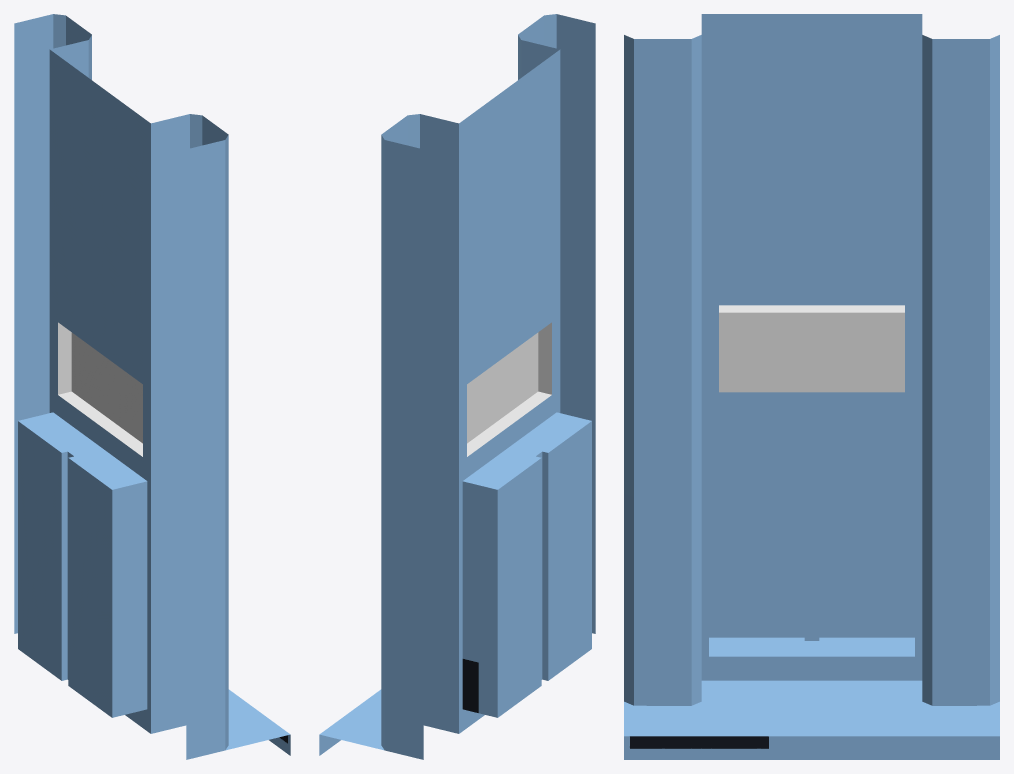
The model's file is StorefrontB.FBX.
3 views of the same model, side by side, from view 1: azimuth 30°, elevation 25°; view 2: azimuth 150°, elevation 25°; view 3: azimuth 270°, elevation 25° (orthographic). The views are drawn at different scales.
Visible parts, largest first — view 1: StorefrontB; view 2: StorefrontB; view 3: StorefrontB.
Part boxes in pixels (bbox=[...]): StorefrontB: bbox=[14, 14, 290, 759]; StorefrontB: bbox=[319, 14, 595, 759]; StorefrontB: bbox=[624, 14, 999, 759].
Size of the model in its own units: 0.7026 by 1.5 by 3.04.
3 materials, 3 textured.
